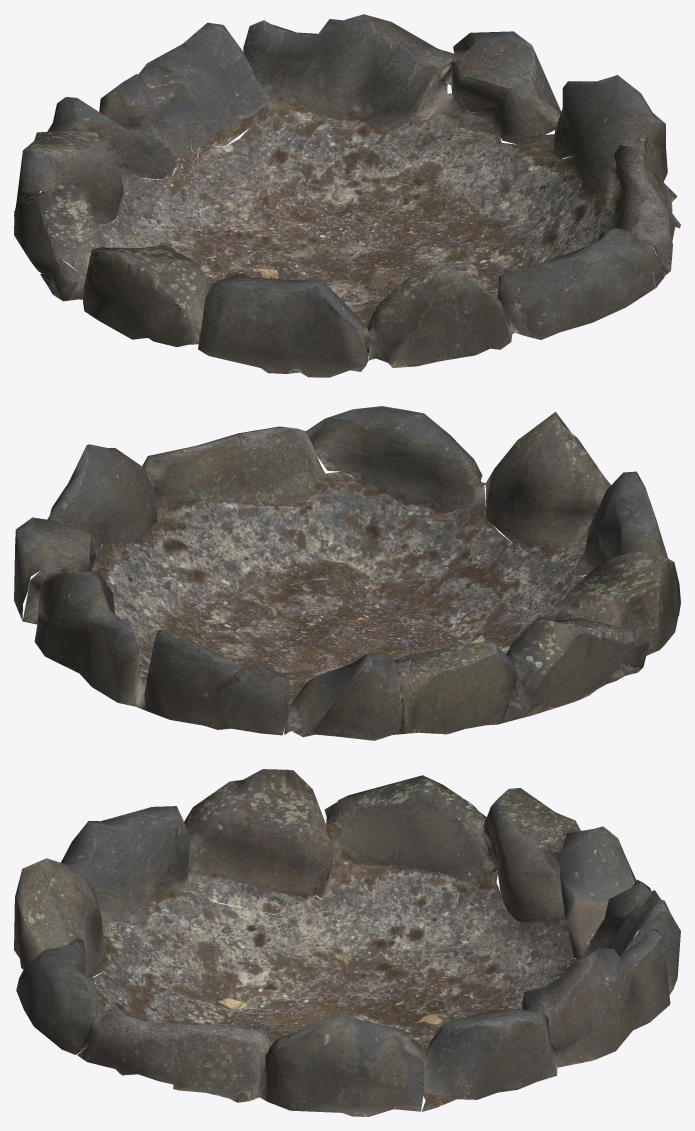
Rendered from stone_fire_pit.glb.
3 renders of one model, top to bottom at view 1: azimuth 30°, elevation 25°; view 2: azimuth 150°, elevation 25°; view 3: azimuth 270°, elevation 25°, orthographic.
Parts seen in each view (by area): view 1: stone_fire_pit; view 2: stone_fire_pit; view 3: stone_fire_pit.
Part boxes in pixels (x1,y1,x2,y2): stone_fire_pit: [14, 14, 680, 377]; stone_fire_pit: [14, 406, 680, 740]; stone_fire_pit: [14, 769, 680, 1116].
Size of the model in its own units: 1.45 by 0.3871 by 1.43.
Materials: 1 (1 with a texture image).
